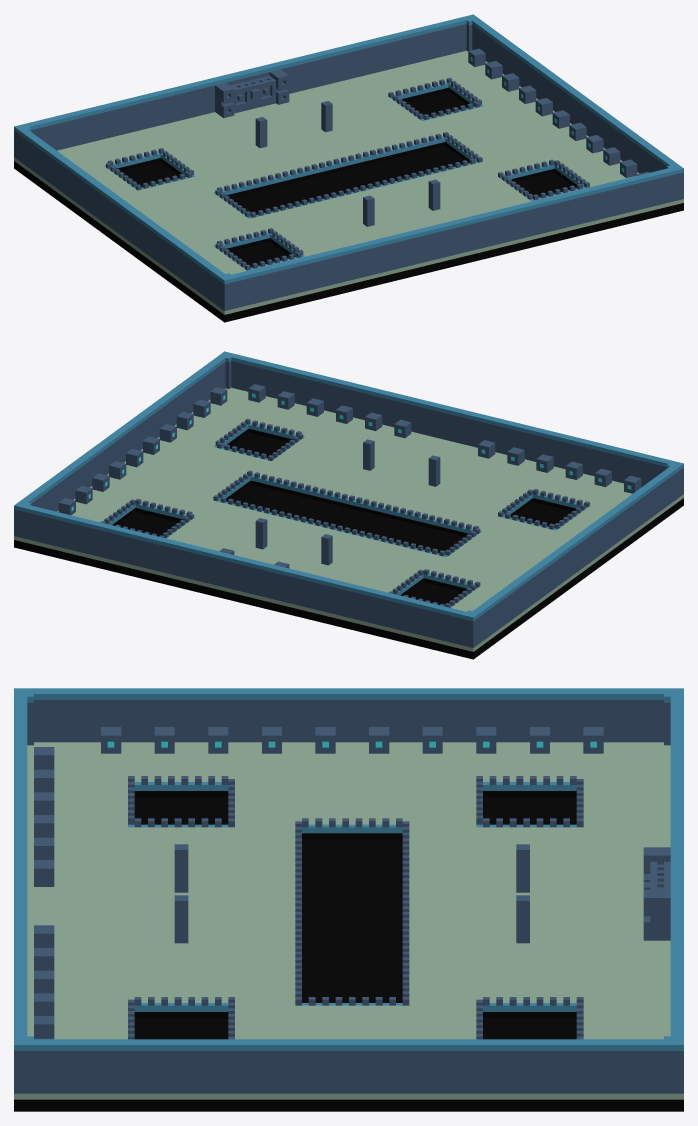
Rendered from boss1.obj.
3 views of the same model, one above another, from view 1: azimuth 30°, elevation 25°; view 2: azimuth 150°, elevation 25°; view 3: azimuth 270°, elevation 25° (orthographic). The views are drawn at different scales.
Size of the model in its own units: 126 by 11 by 100.
Materials: 1 (1 with a texture image).
